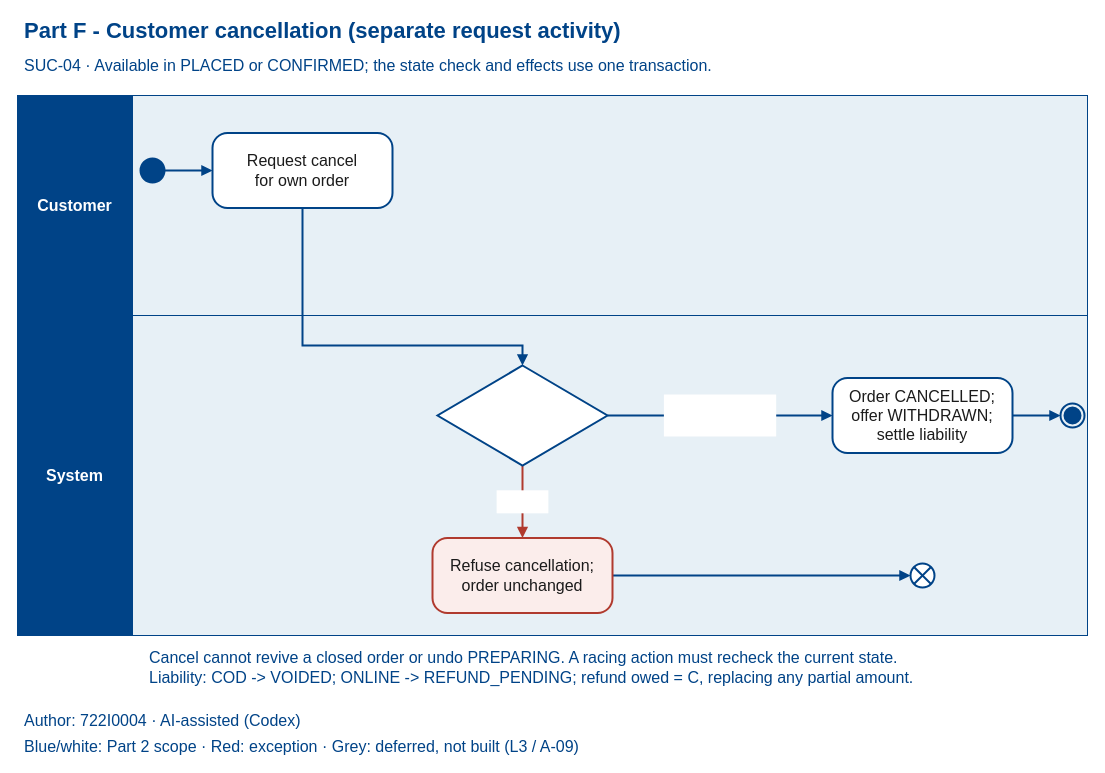
Some shapes in this 1105 by 773 pixel diagram are drawn without their labels. The shapes that lost their labels are listed below. From the top down, each one's centre as x and y in pixels, then its label:
At (522,415): "Early enough?".
At (719,415): "[PLACED or CONFIRMED]".
At (522,501): "[else]".
